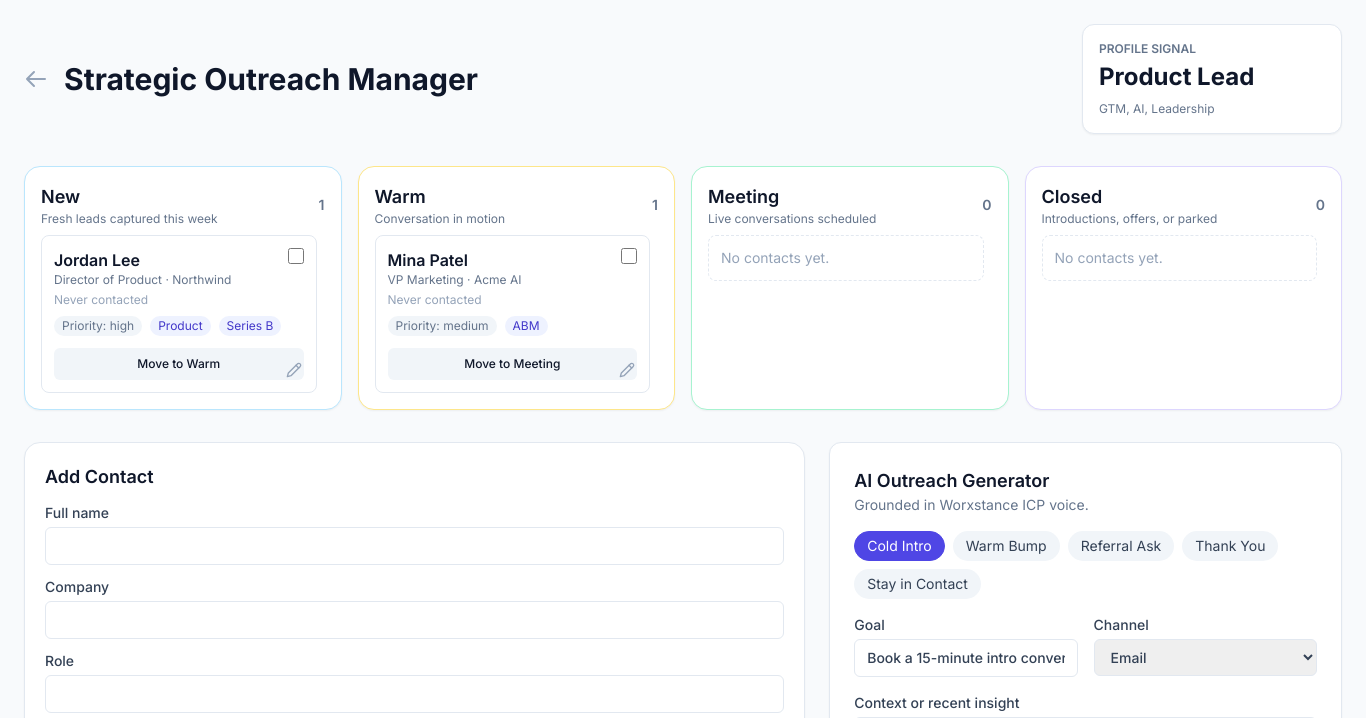
Test: NetworkingCRM › closes edit modal when cancel is clicked
Click the button named "Edit contact" below "high" at (294,370), box x1=280 y1=356 x2=308 y2=384
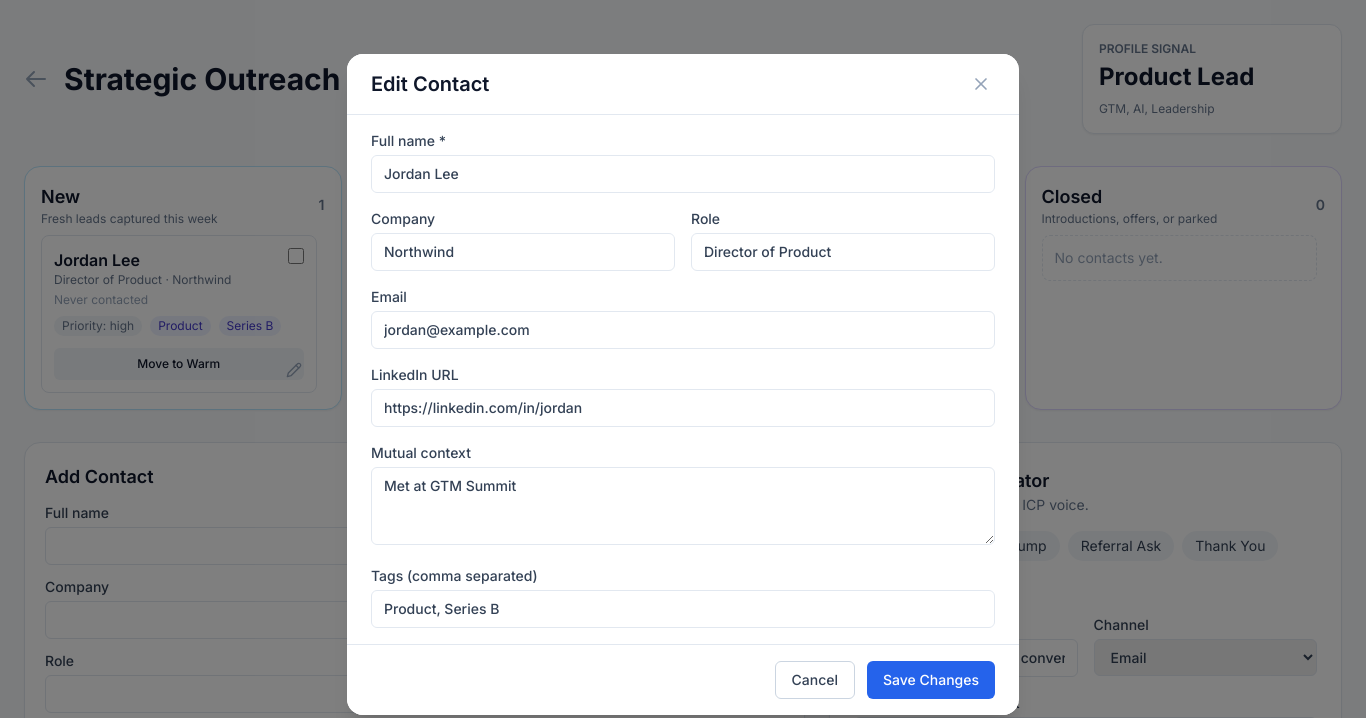
Result: the heading "Edit Contact" is shown at x1=371 y1=70 x2=489 y2=98
Click the button "Cancel" at (815,680), box x1=774 y1=660 x2=855 y2=698
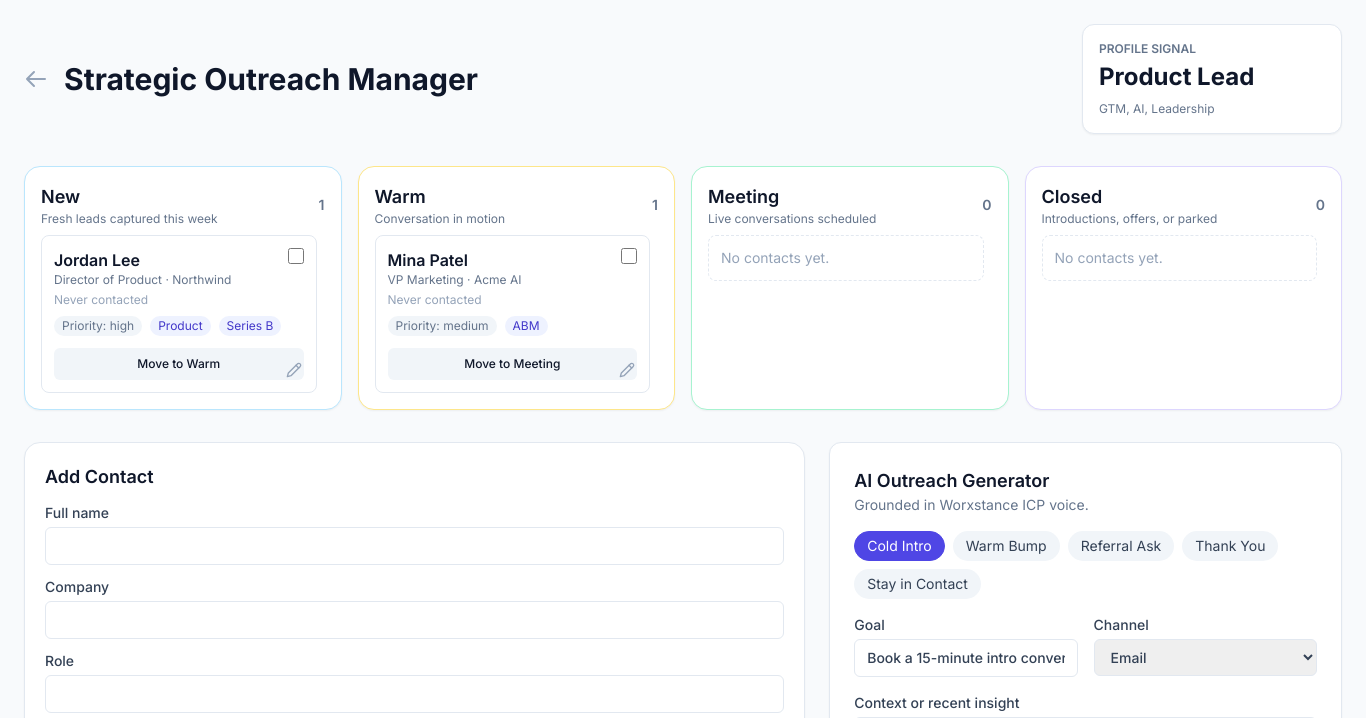
Result: the heading "Edit Contact" is gone
